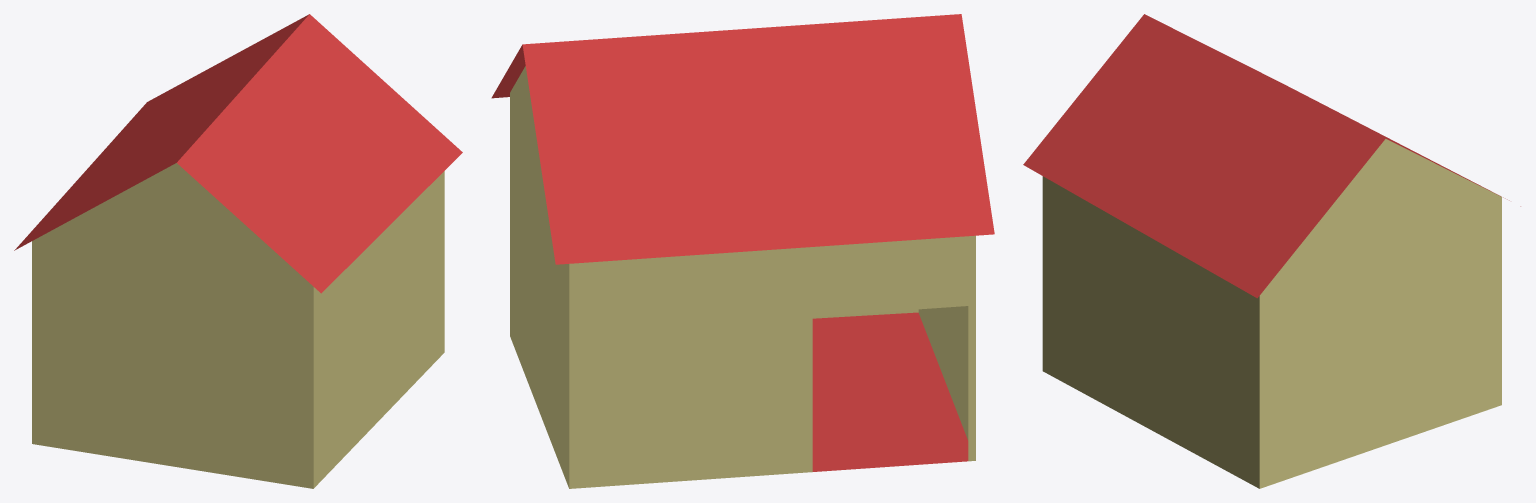
3 views of the same model, side by side, from view 1: azimuth 30°, elevation 25°; view 2: azimuth 150°, elevation 25°; view 3: azimuth 270°, elevation 25° (orthographic). The views are drawn at different scales.
Bounding box in the file's own units: 18.21 × 17.76 × 12.35.
